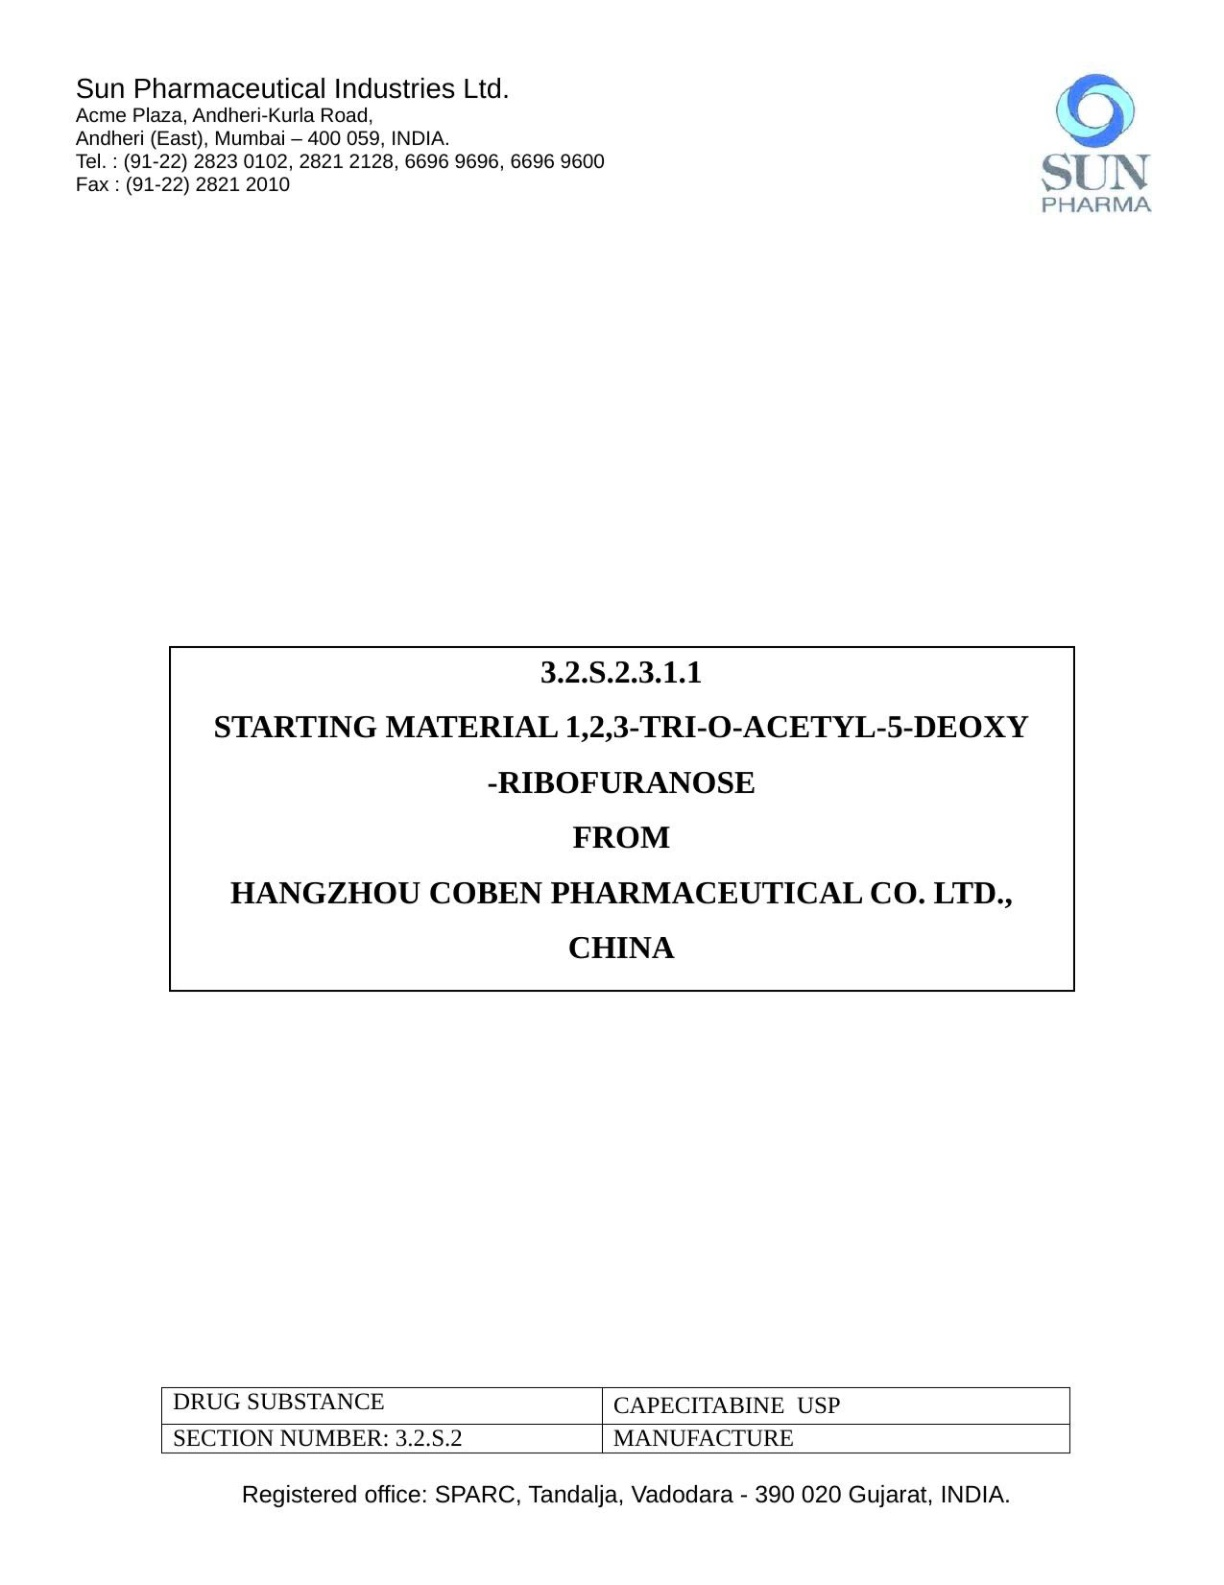full_lined: (159, 1386, 1071, 1454)
